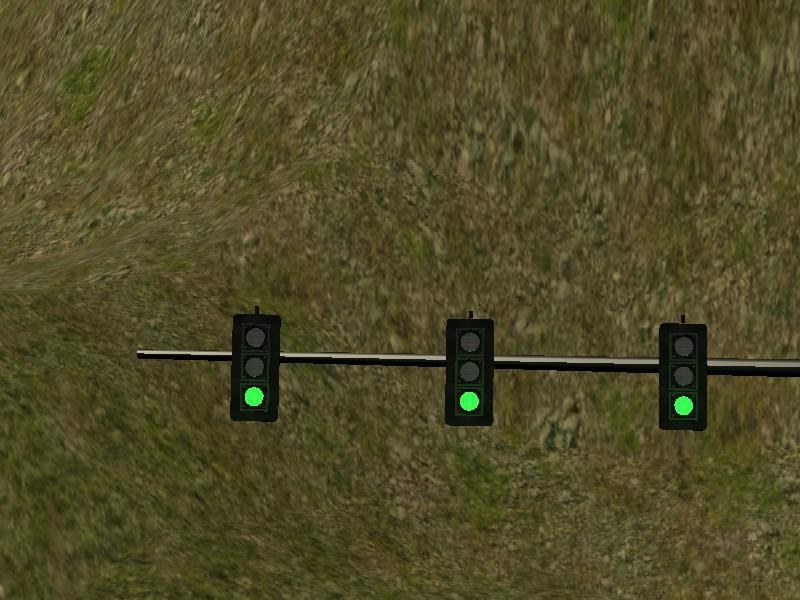Green: (232, 313, 278, 420), (446, 319, 491, 425), (664, 323, 703, 435)
